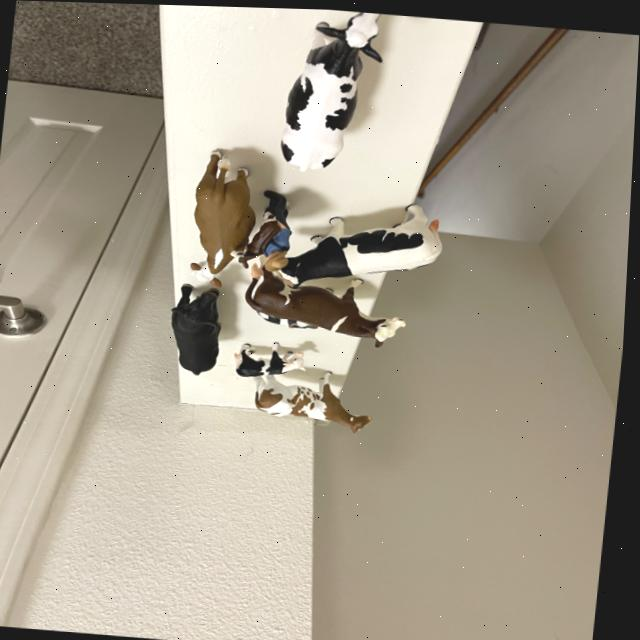cow: (261, 0, 399, 180), (243, 245, 417, 355), (275, 199, 448, 287), (251, 352, 385, 437), (190, 148, 264, 288), (173, 281, 227, 375), (237, 212, 288, 270), (237, 337, 309, 377)
person: (265, 224, 294, 272)
